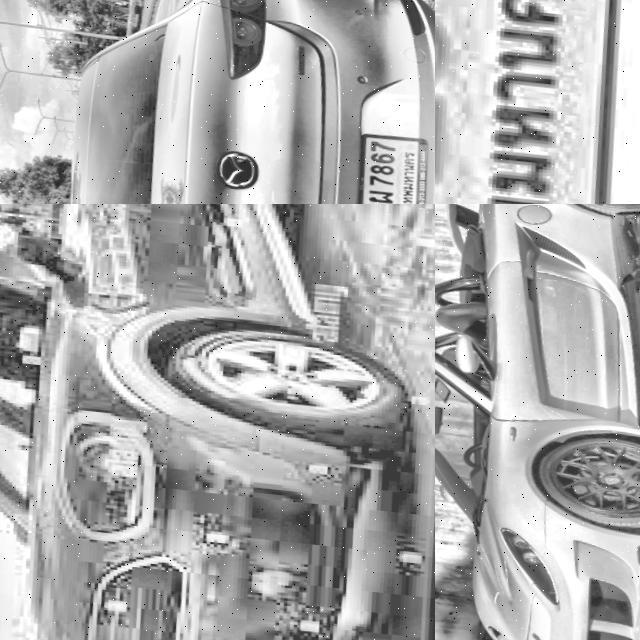license-plate: (435, 0, 640, 204), (344, 129, 432, 204)
